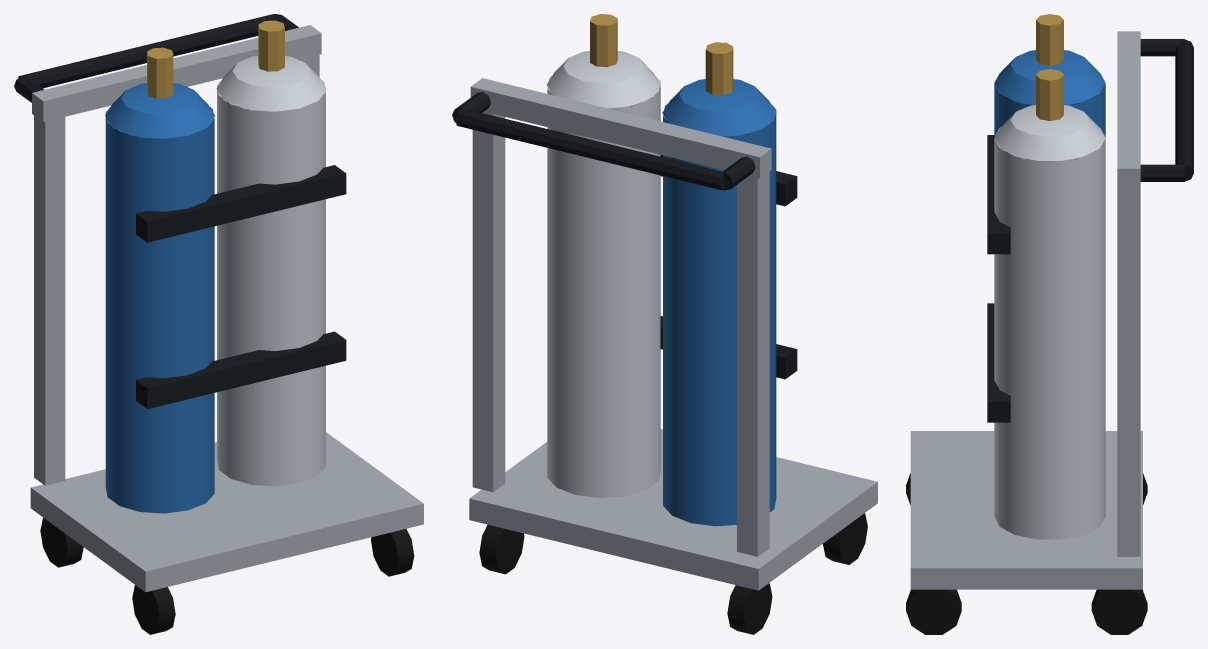
File: cylinder_cylinder_hand_cart.glb
3 renders of one model, left to right at view 1: azimuth 30°, elevation 25°; view 2: azimuth 150°, elevation 25°; view 3: azimuth 270°, elevation 25°, orthographic. The views are drawn at different scales.
Visible parts, largest first — view 1: cylinder_cylinder_hand_cart; view 2: cylinder_cylinder_hand_cart; view 3: cylinder_cylinder_hand_cart.
Boxes of the visible parts, x1=… form: cylinder_cylinder_hand_cart: x1=14, y1=14, x2=423, y2=634; cylinder_cylinder_hand_cart: x1=452, y1=14, x2=877, y2=634; cylinder_cylinder_hand_cart: x1=906, y1=14, x2=1193, y2=634.
Bounding box in the file's own units: 0.7 × 1.25 × 0.62.
